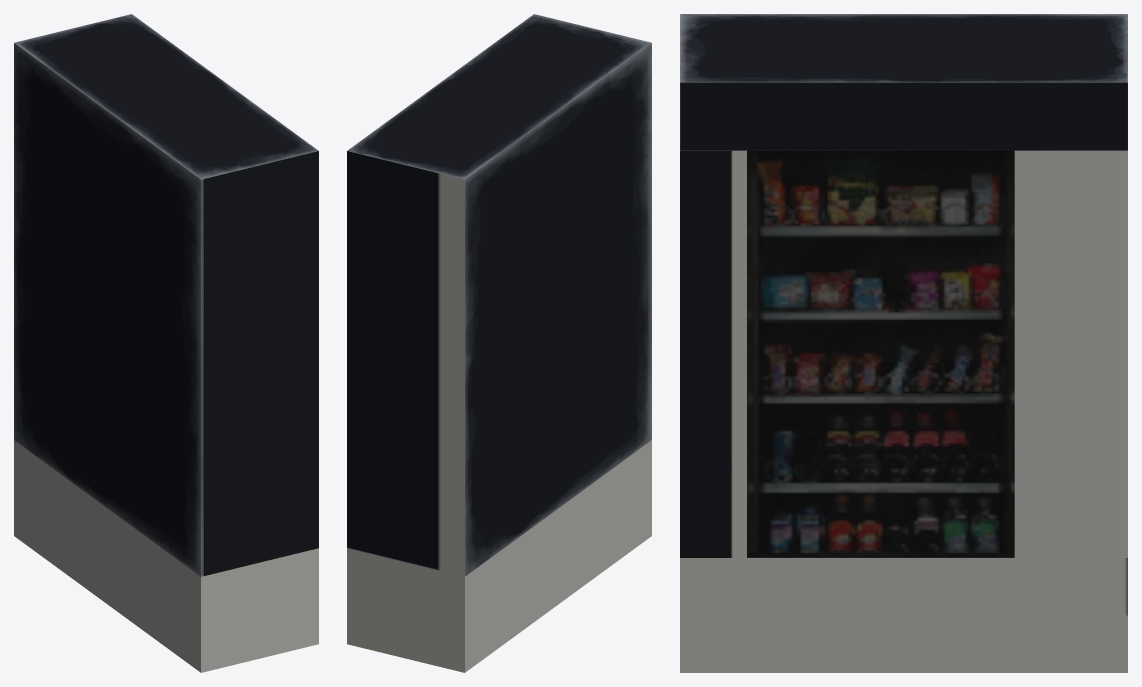
File: VendingMachine.fbx
3 renders of one model, left to right at view 1: azimuth 30°, elevation 25°; view 2: azimuth 150°, elevation 25°; view 3: azimuth 270°, elevation 25°, orthographic. The views are drawn at different scales.
Visible parts, largest first — view 1: Cube; view 2: Cube; view 3: Cube.
Part boxes in pixels (left/top/right/bottom): Cube: left=14, top=14, right=318, bottom=672; Cube: left=347, top=14, right=651, bottom=672; Cube: left=680, top=14, right=1127, bottom=672.
Size of the model in its own units: 50 by 200 by 138.
